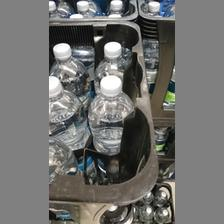Wasser: (86, 75, 136, 151), (48, 74, 88, 150), (48, 39, 92, 101), (92, 42, 128, 90)
